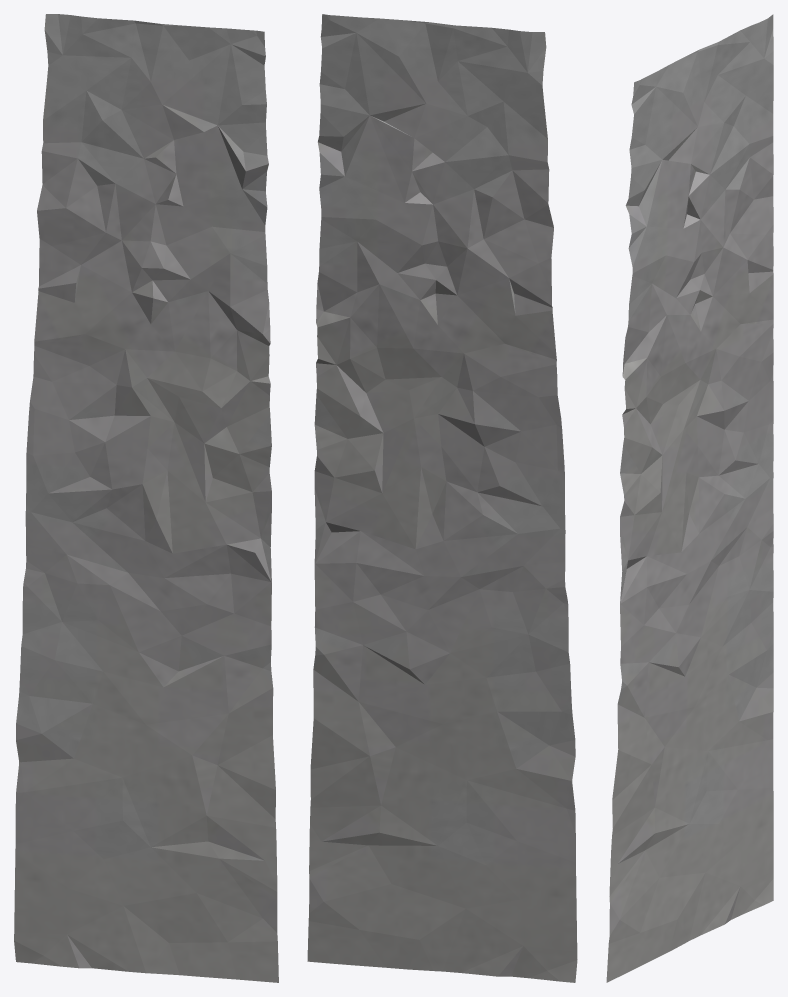
3 views of the same model, side by side, from view 1: azimuth 30°, elevation 25°; view 2: azimuth 210°, elevation 25°; view 3: azimuth 270°, elevation 25° (orthographic). The views are drawn at different scales.
Bounding box in the file's own units: 0.1656 × 0.8374 × 0.1407.
Materials: 1 (1 with a texture image).
